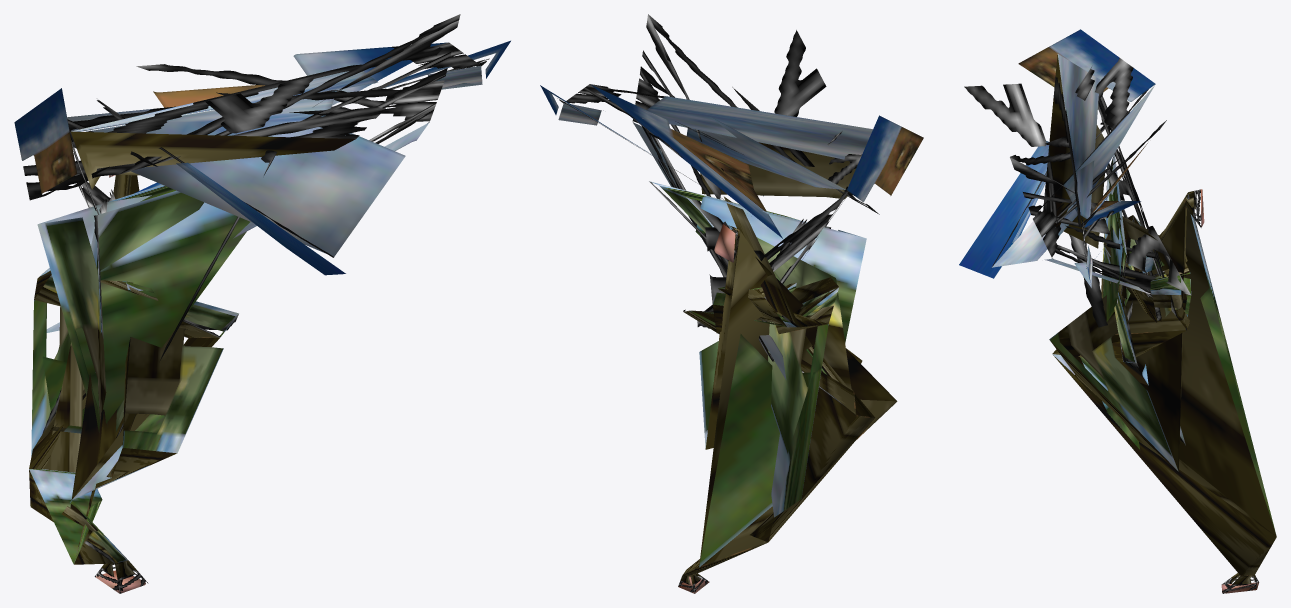
3 views of the same model, side by side, from view 1: azimuth 30°, elevation 25°; view 2: azimuth 150°, elevation 25°; view 3: azimuth 270°, elevation 25° (orthographic). The views are drawn at different scales.
Parts seen in each view (by area): view 1: T1L2M003_13; view 2: T1L2M003_13; view 3: T1L2M003_13.
Part boxes in pixels (bbox=[...]): T1L2M003_13: bbox=[14, 14, 510, 593]; T1L2M003_13: bbox=[540, 14, 923, 593]; T1L2M003_13: bbox=[959, 29, 1276, 593].
Bounding box in the file's own units: 0.9969 × 1.26 × 0.7134.
